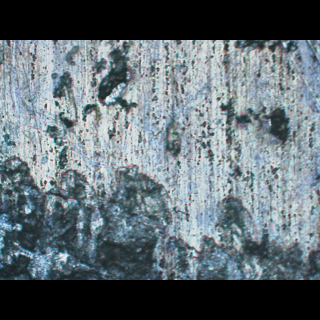d: (0, 142, 319, 279), (52, 45, 140, 122)
